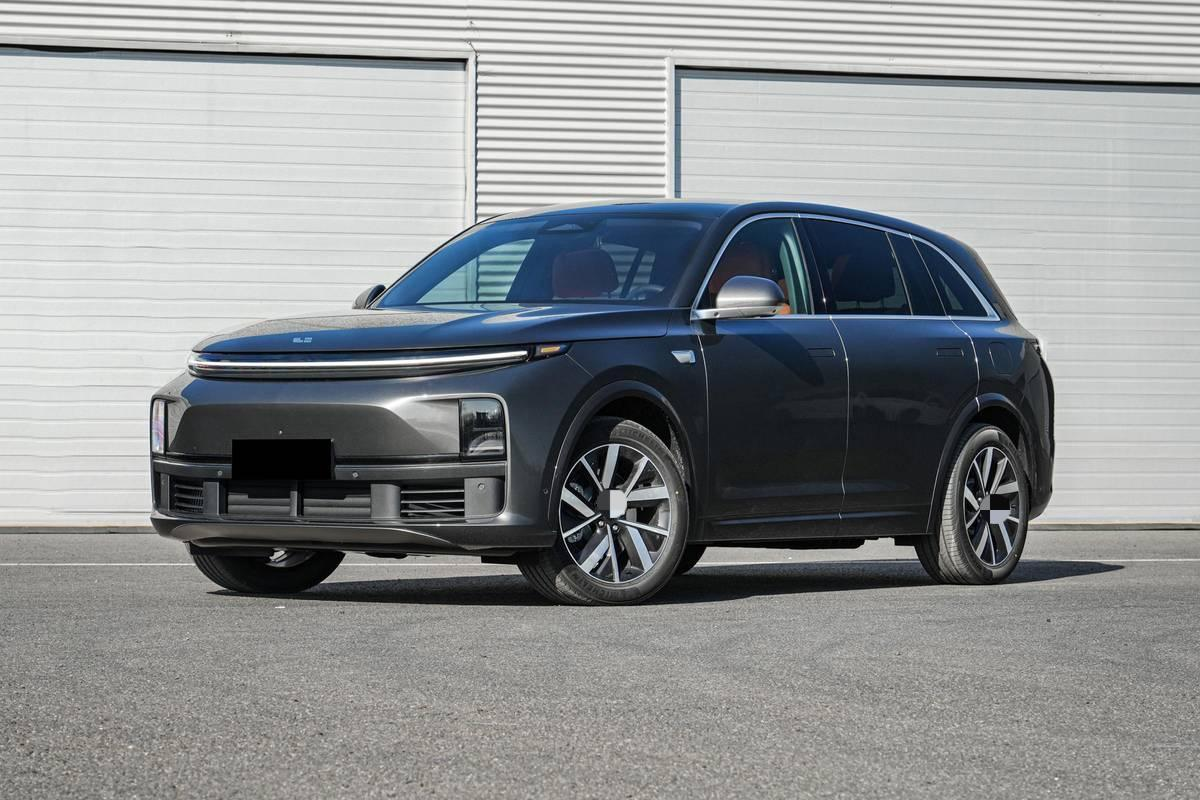Li Auto: (292, 337, 312, 345)
